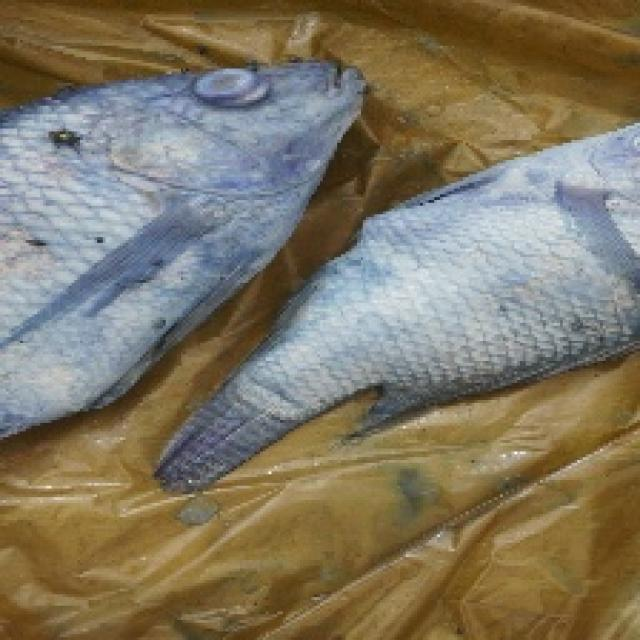Non-Fresh: (6, 34, 384, 290)
